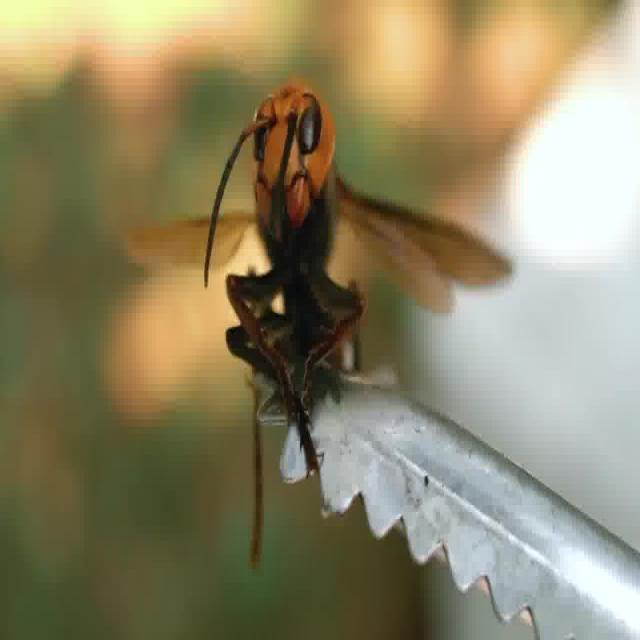Wasp: (209, 66, 516, 445)
